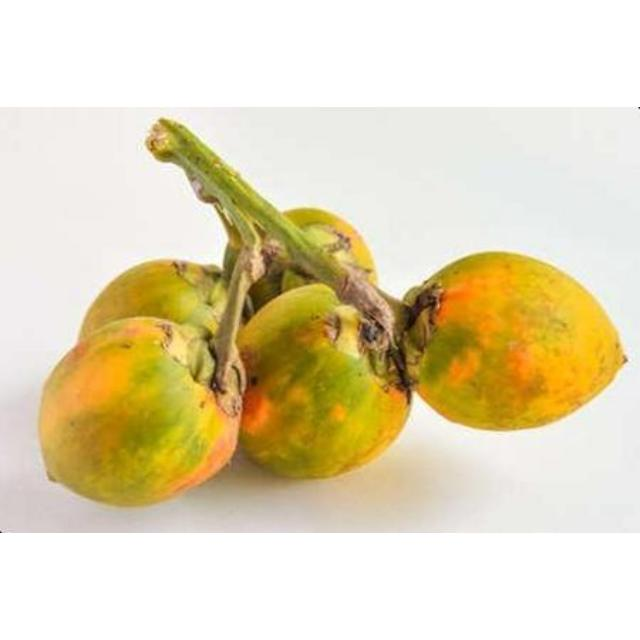good: (155, 124, 411, 482), (401, 252, 629, 434), (37, 317, 239, 509)
